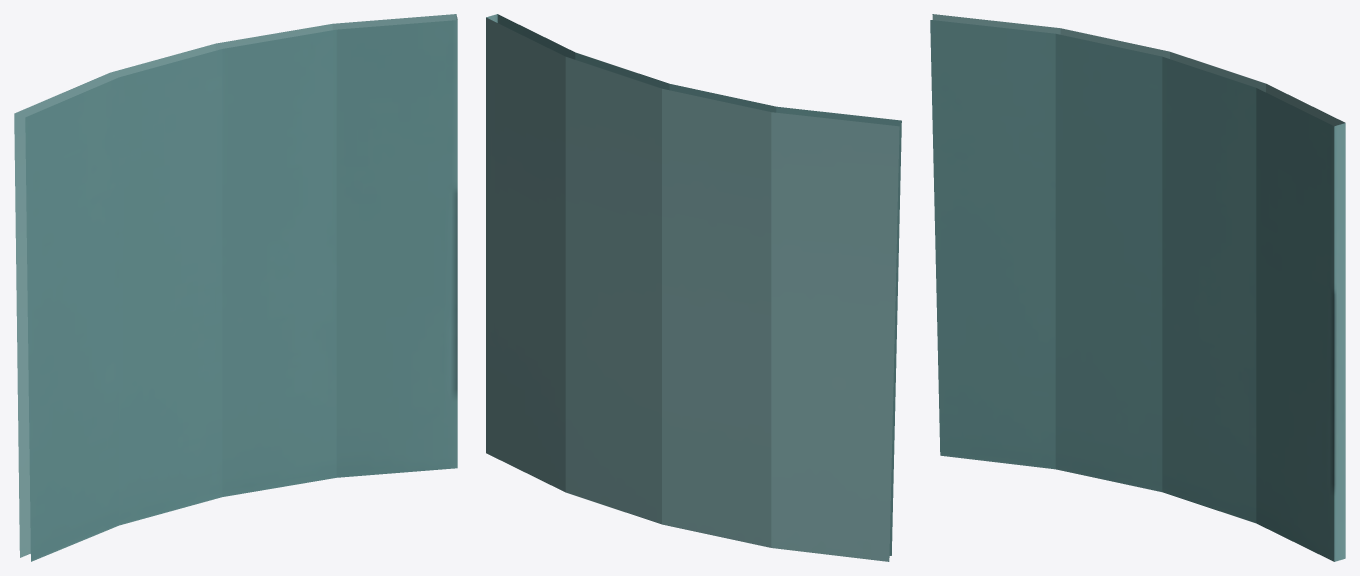
File: structure_08.glb
The picture shows the model from 3 angles, left to right: view 1: azimuth 30°, elevation 25°; view 2: azimuth 150°, elevation 25°; view 3: azimuth 330°, elevation 25°; orthographic projection. The views are drawn at different scales.
Parts seen in each view (by area): view 1: Structure.007; view 2: Structure.007; view 3: Structure.007.
Part boxes in pixels (x1,y1,x2,y2): Structure.007: (14,14,457,561); Structure.007: (486,14,901,561); Structure.007: (930,14,1345,561).
Bounding box in the file's own units: 3.49 × 3.45 × 0.5072.
Materials: 1 (1 with a texture image).
